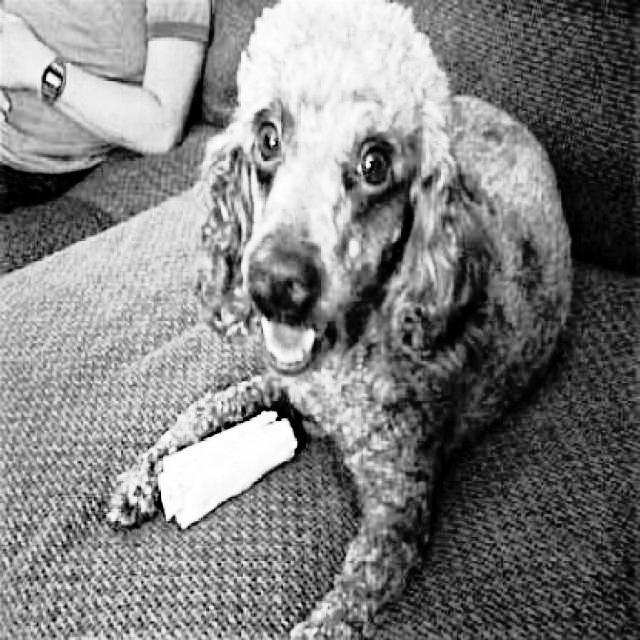Dog: (100, 0, 583, 640)
